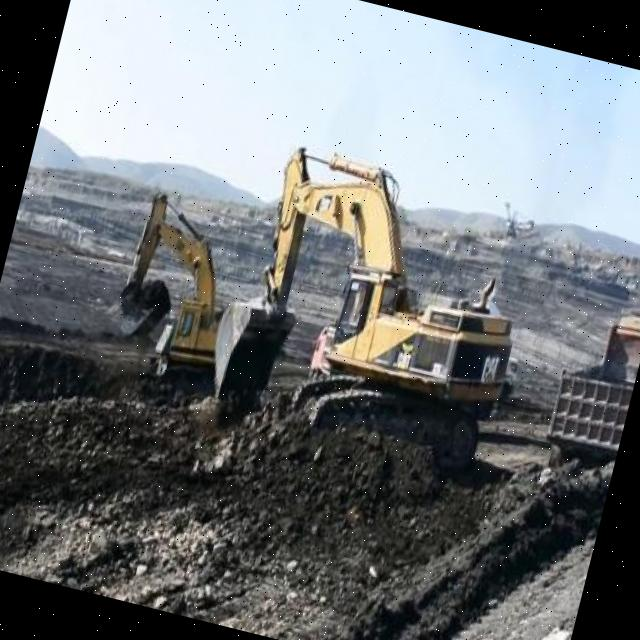Dump Truck: (537, 291, 640, 485)
Excavator: (197, 137, 548, 486), (94, 188, 258, 404)
